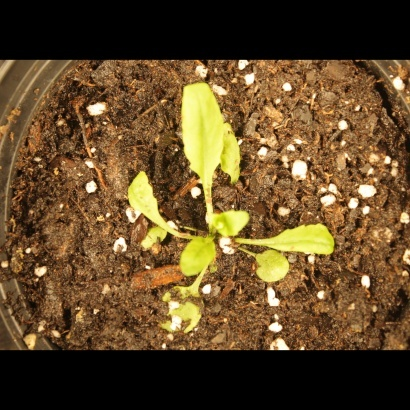leaf: (173, 78, 229, 204), (115, 166, 177, 235), (258, 221, 344, 260), (158, 280, 207, 341), (215, 120, 253, 186), (180, 231, 216, 284), (249, 246, 294, 288), (202, 207, 251, 241)
